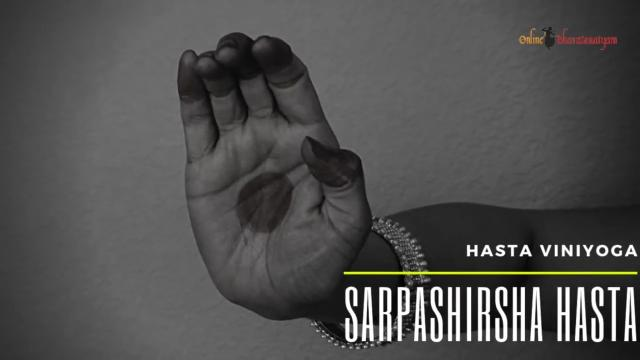sarpsheesh: (160, 21, 380, 323)
